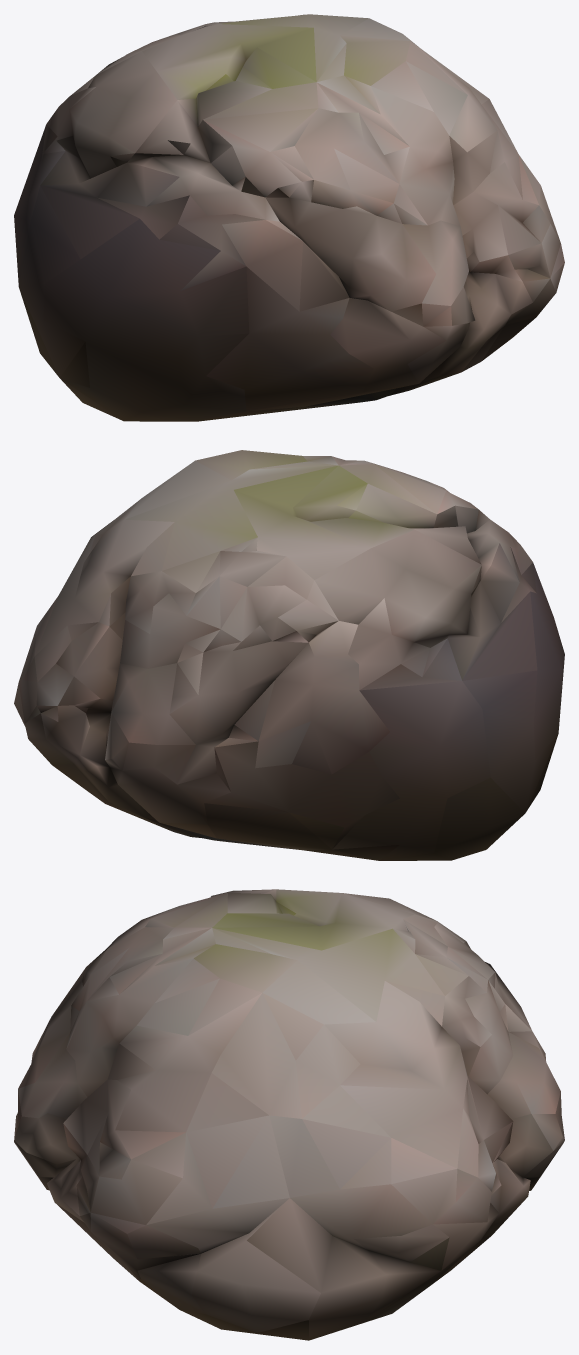
File: granite_3.glb
The picture shows the model from 3 angles, top to bottom: view 1: azimuth 30°, elevation 25°; view 2: azimuth 150°, elevation 25°; view 3: azimuth 270°, elevation 25°; orthographic projection.
Visible parts, largest first — view 1: tripo_part_0; view 2: tripo_part_0; view 3: tripo_part_0.
Part boxes in pixels (<box>): tripo_part_0: <box>14,14,564,421</box>; tripo_part_0: <box>14,450,564,860</box>; tripo_part_0: <box>14,889,564,1340</box>.
Bounding box in the file's own units: 0.9819 × 0.6251 × 0.9527.
